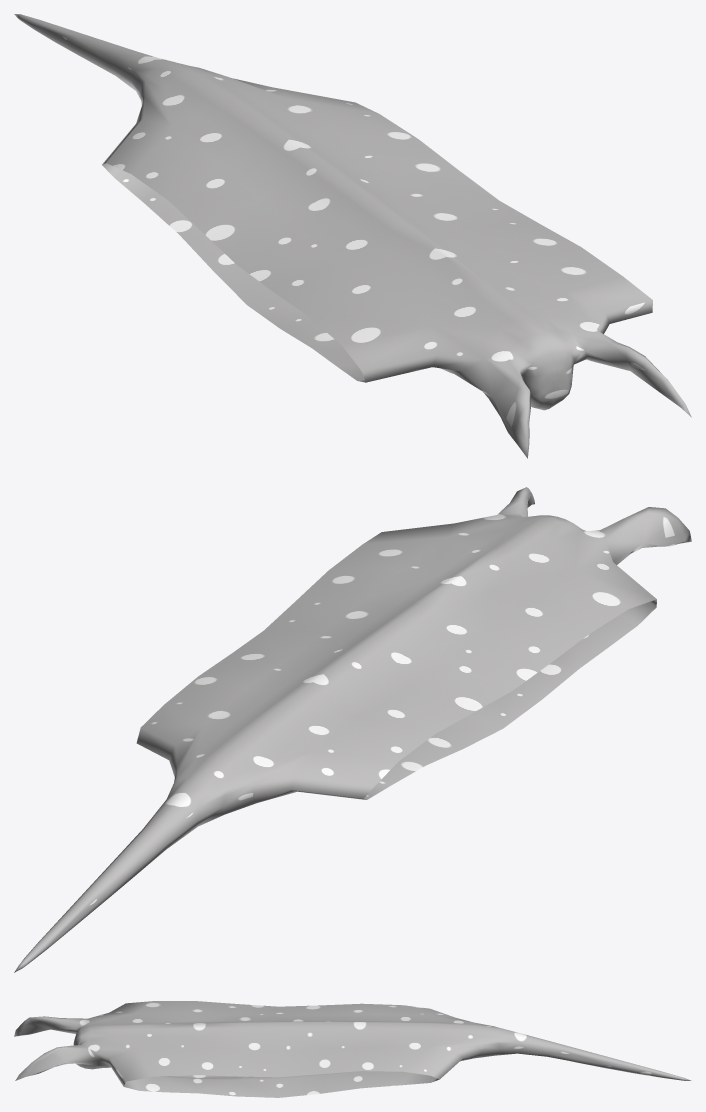
The model's file is cuerpoManta1.obj.
The picture shows the model from 3 angles, top to bottom: view 1: azimuth 30°, elevation 25°; view 2: azimuth 150°, elevation 25°; view 3: azimuth 270°, elevation 25°; orthographic projection. The views are drawn at different scales.
Visible parts, largest first — view 1: cuerpoManta1:Box01; view 2: cuerpoManta1:Box01; view 3: cuerpoManta1:Box01.
Boxes of the visible parts, <box> form: cuerpoManta1:Box01: <box>14,14,691,458</box>; cuerpoManta1:Box01: <box>14,487,691,972</box>; cuerpoManta1:Box01: <box>14,1001,691,1097</box>.
Size of the model in its own units: 3.3 by 1.05 by 12.06.
1 material, 1 textured.
